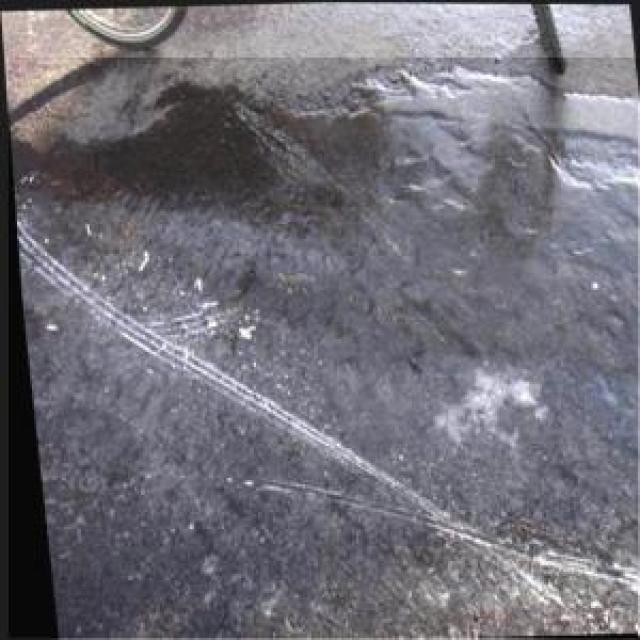ice-road: (10, 58, 640, 638)
